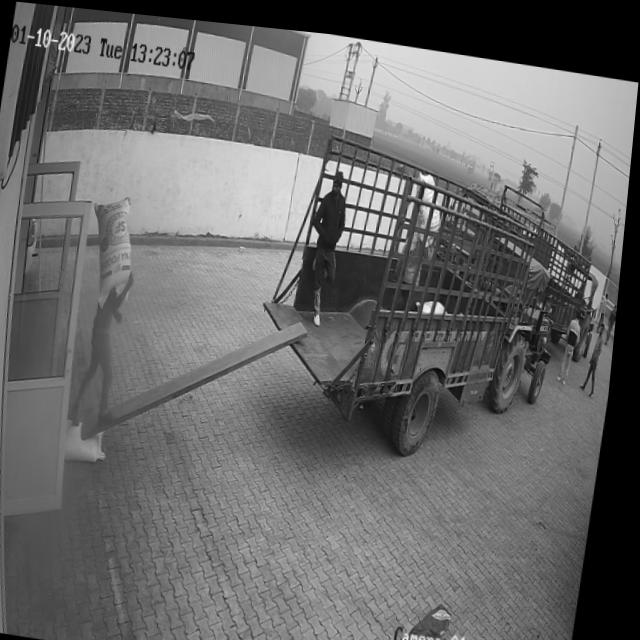sack: (85, 190, 145, 308), (72, 418, 118, 463)
